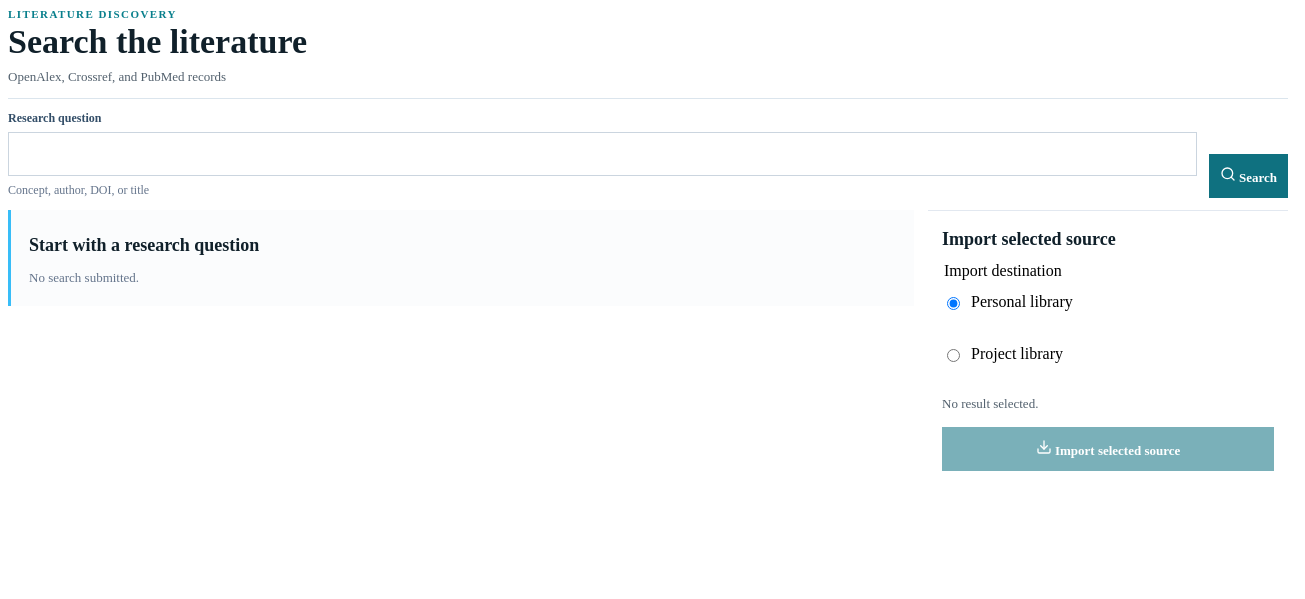
Test: LiteratureSearchPage › keeps polling a running import after a transient progress failure
In the field with test id "literature-search-query": (602, 154) [8, 132, 1197, 176], type "evidence synthesis"
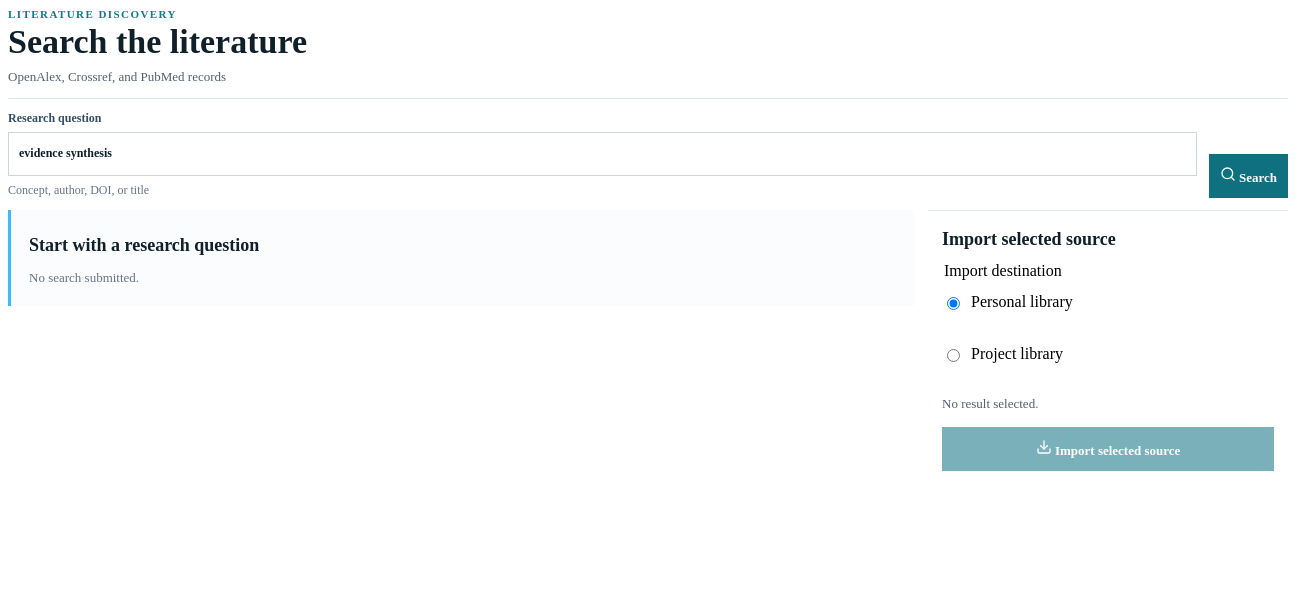
Submit the form with test id "literature-search-submit", box [8, 110, 1288, 198]
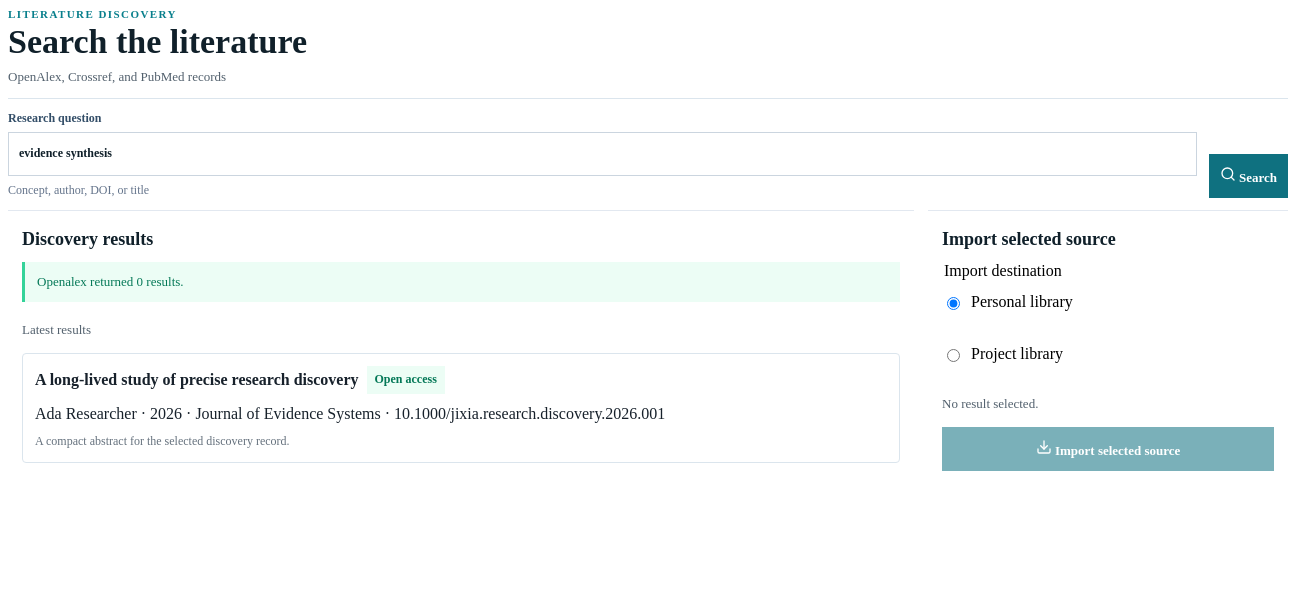
Click the button "A long-lived study of precise research discovery": (461, 408) [22, 353, 900, 463]
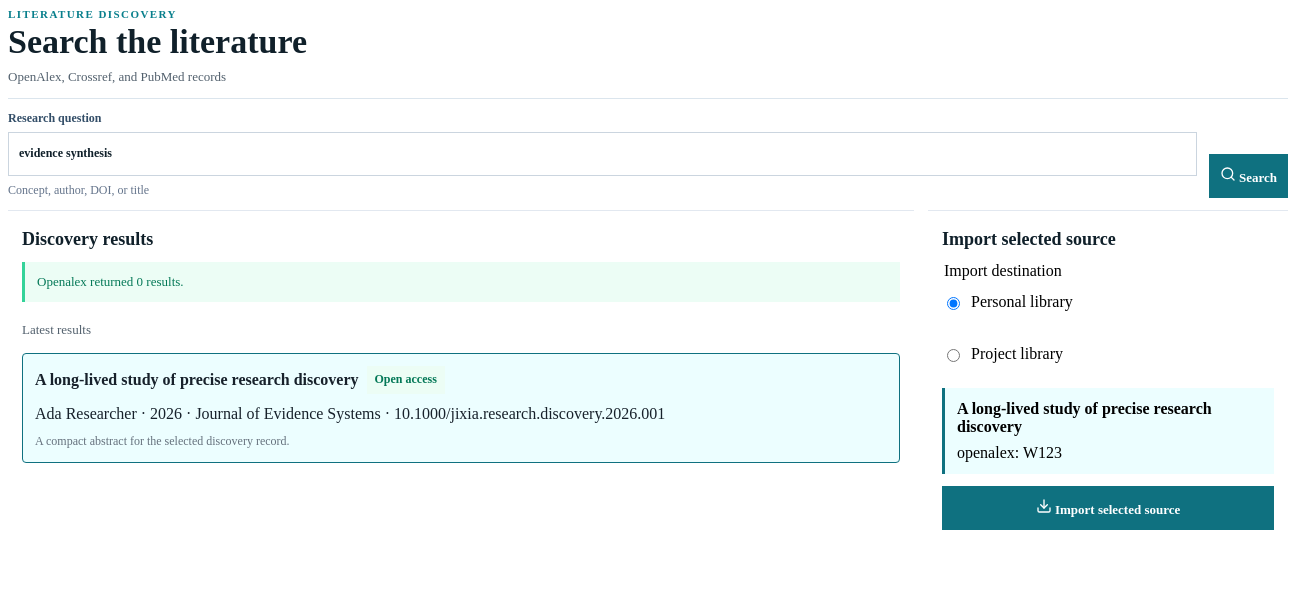
Click the button with test id "literature-import-submit": (1108, 508) [942, 486, 1274, 530]
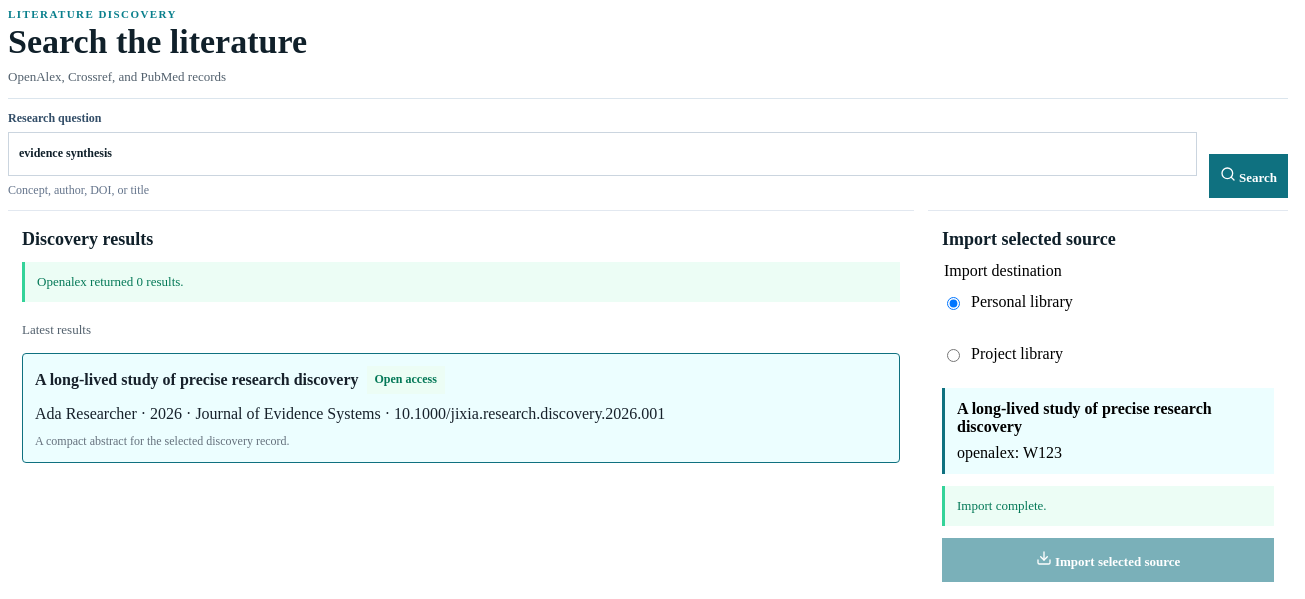
expect the text "Temporary progress failure" is shown: met, box [942, 486, 1274, 526]
